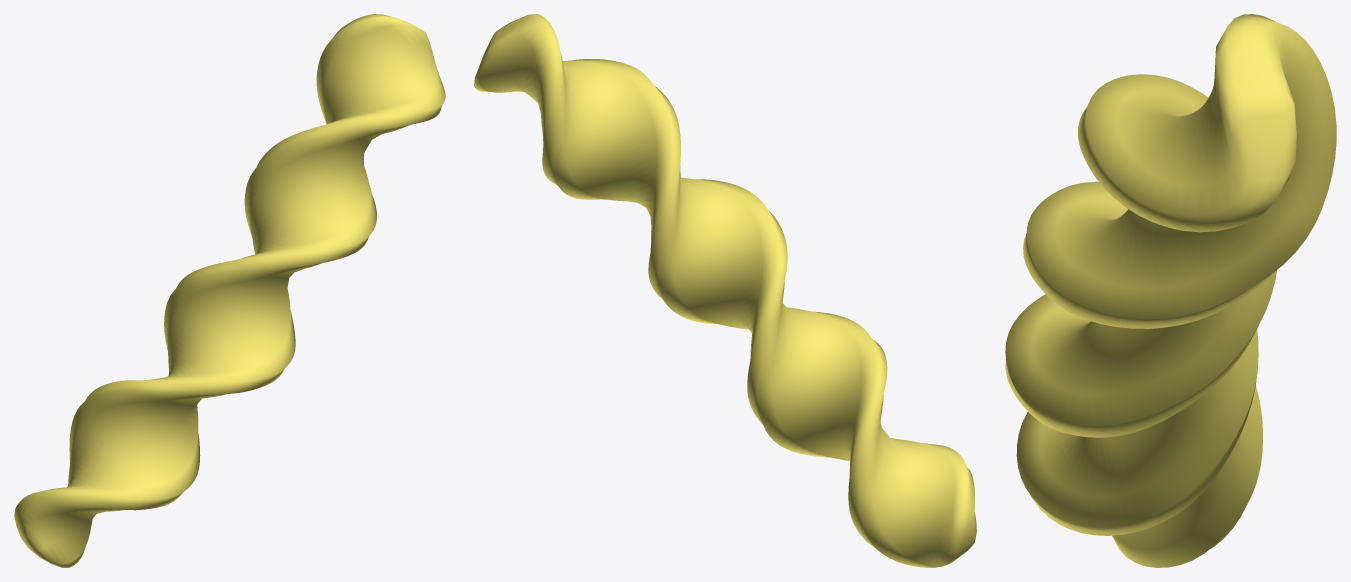
The model's file is Fusili.gltf.
The picture shows the model from 3 angles, left to right: view 1: azimuth 30°, elevation 25°; view 2: azimuth 150°, elevation 25°; view 3: azimuth 270°, elevation 25°; orthographic projection. The views are drawn at different scales.
Parts seen in each view (by area): view 1: Fusili; view 2: Fusili; view 3: Fusili.
Part boxes in pixels (x1=…): Fusili: x1=14, y1=14, x2=445, y2=567; Fusili: x1=474, y1=14, x2=976, y2=567; Fusili: x1=1005, y1=14, x2=1336, y2=567.
Bounding box in the file's own units: 2.51 × 2.44 × 0.8616.
